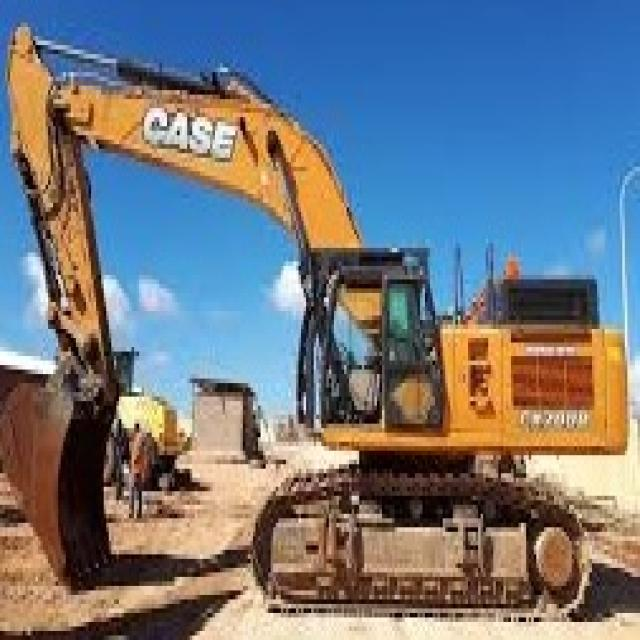excavator: (248, 230, 636, 614)
